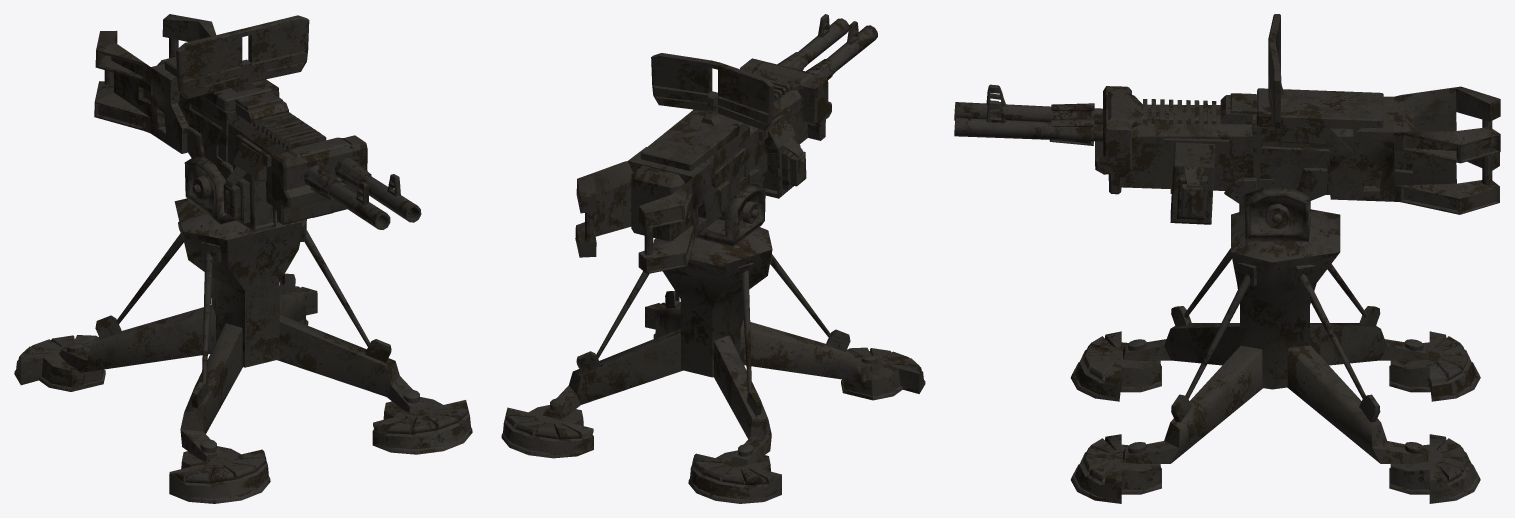
File: fixed_machine_gun_turret.glb
3 views of the same model, side by side, from view 1: azimuth 30°, elevation 25°; view 2: azimuth 150°, elevation 25°; view 3: azimuth 270°, elevation 25° (orthographic). The views are drawn at different scales.
Parts seen in each view (by area): view 1: Stand, MGMain, Swivel; view 2: Stand, MGMain, Swivel; view 3: MGMain, Stand, Swivel.
Boxes of the visible parts, x1=… form: Stand: x1=14, y1=198, x2=472, y2=503; MGMain: x1=94, y1=14, x2=421, y2=231; Swivel: x1=184, y1=157, x2=276, y2=224; Stand: x1=501, y1=219, x2=925, y2=503; MGMain: x1=575, y1=14, x2=877, y2=273; Swivel: x1=695, y1=184, x2=765, y2=246; MGMain: x1=954, y1=14, x2=1500, y2=229; Stand: x1=1070, y1=209, x2=1480, y2=503; Swivel: x1=1244, y1=187, x2=1310, y2=241.
Size of the model in its own units: 30.48 by 36.88 by 46.94.
1 material, 1 textured.
